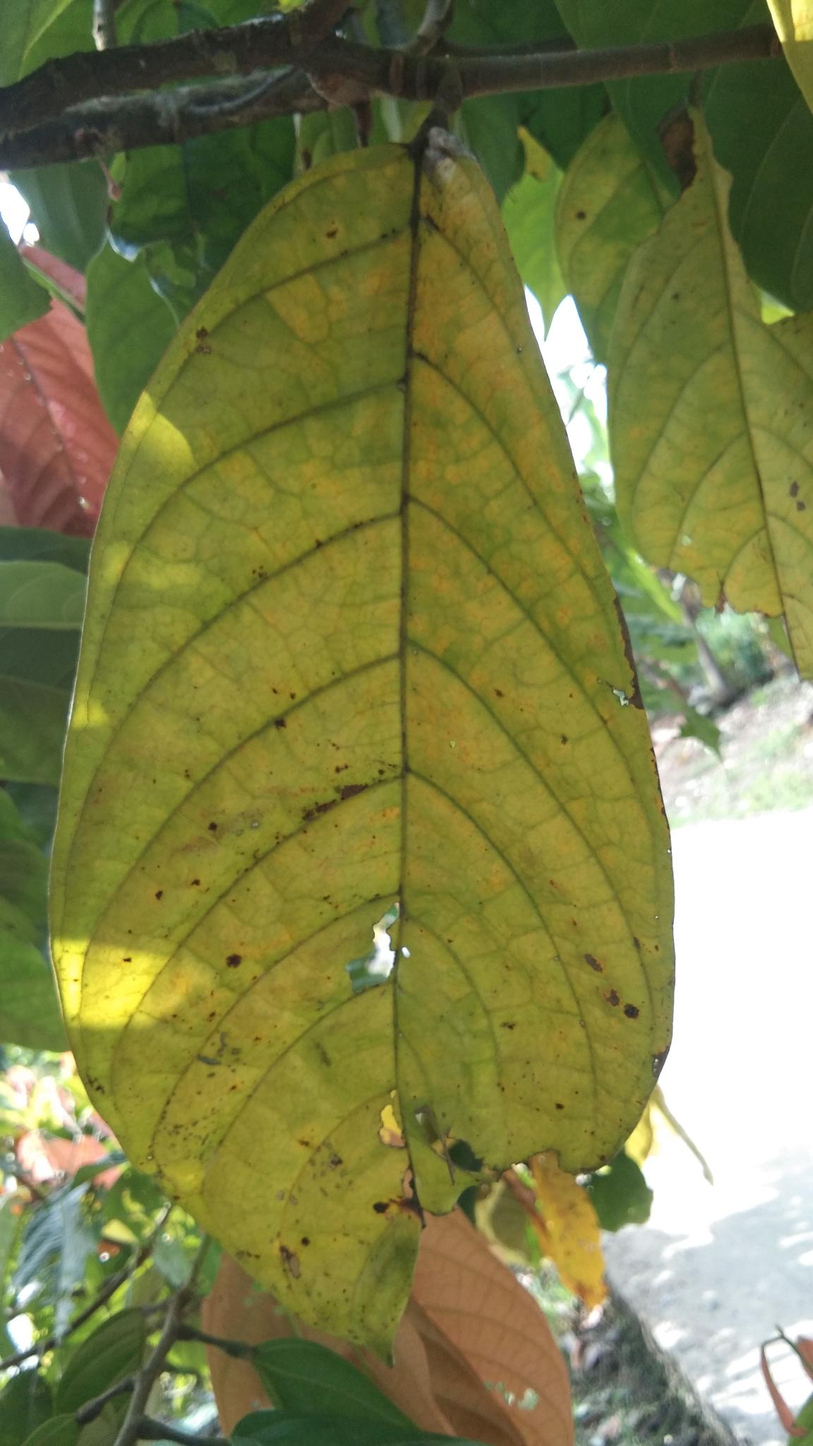Fosforo: (54, 109, 689, 1369)
